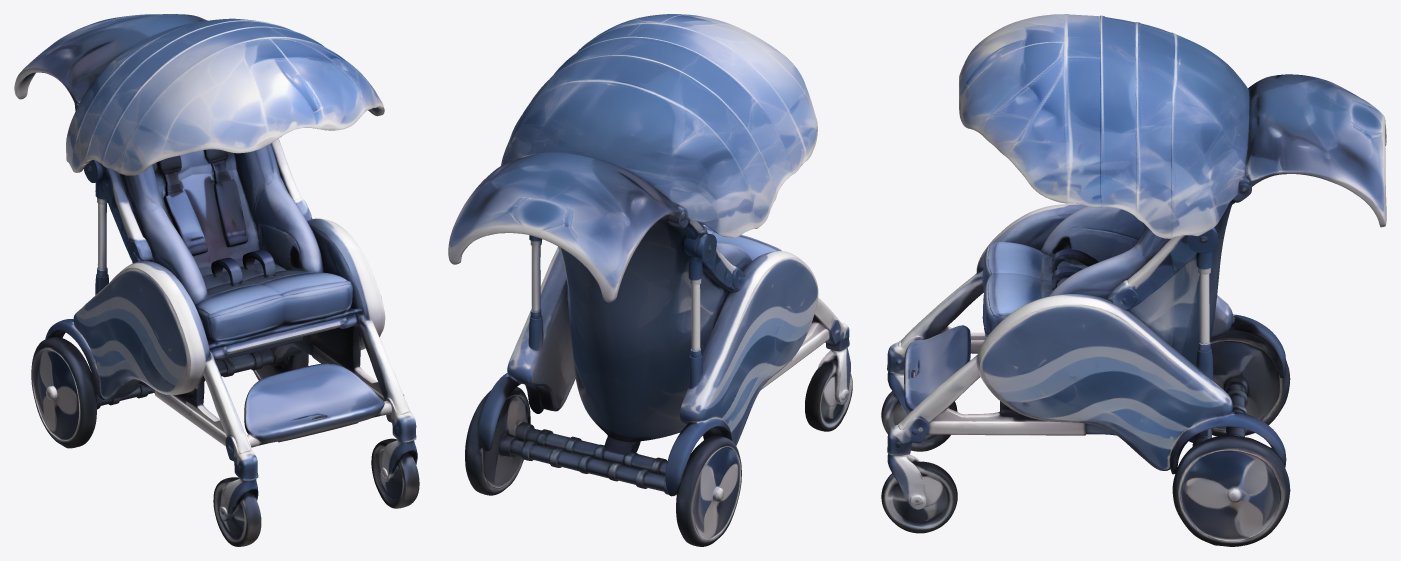
The model's file is 이지은_202602015_DP_01반_10주차실습.glb.
3 renders of one model, left to right at view 1: azimuth 30°, elevation 25°; view 2: azimuth 150°, elevation 25°; view 3: azimuth 270°, elevation 25°, orthographic. The views are drawn at different scales.
Parts seen in each view (by area): view 1: vizcom_node_0; view 2: vizcom_node_0; view 3: vizcom_node_0.
Part boxes in pixels (left/top/right/bottom): vizcom_node_0: left=14, top=14, right=419, bottom=546; vizcom_node_0: left=448, top=14, right=852, bottom=546; vizcom_node_0: left=881, top=14, right=1386, bottom=546.
Size of the model in its own units: 1.13 by 1.82 by 1.8.
Materials: 1 (1 with a texture image).
